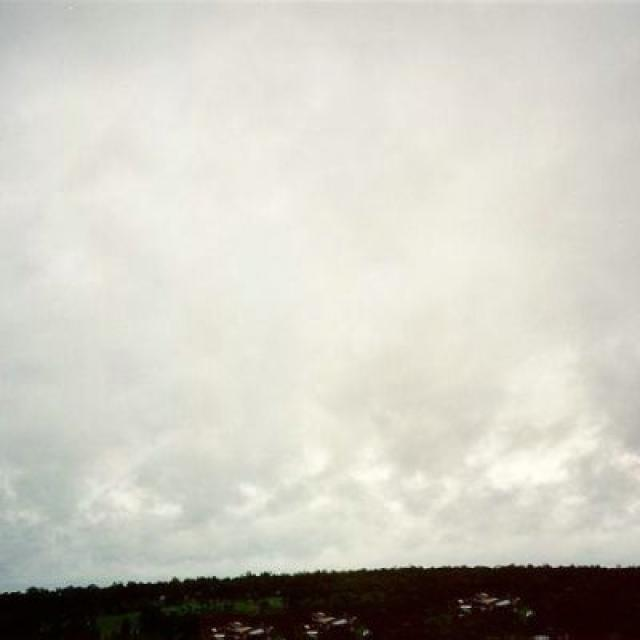Ns: (1, 33, 640, 539)
